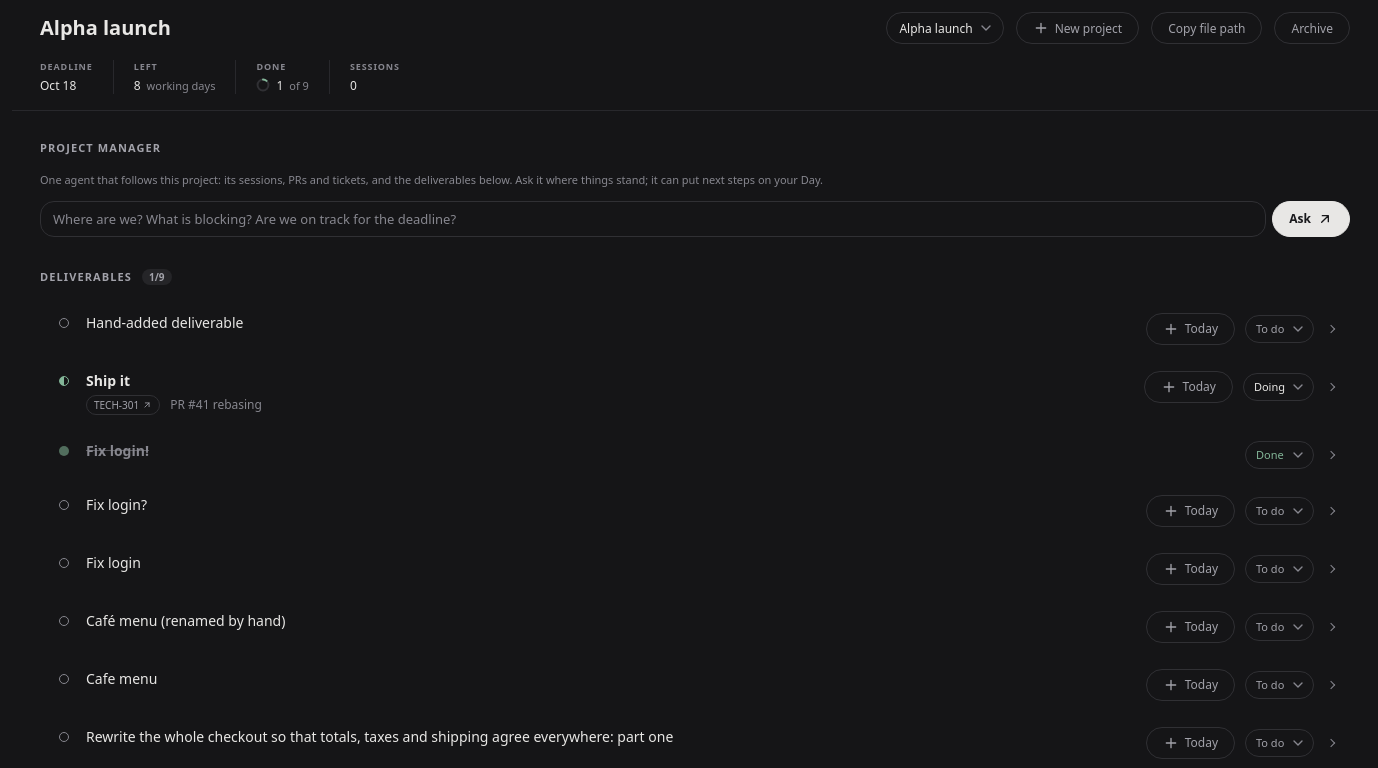
Projects pane › creates from a title and a note, selects the new project and reports a manager that did not start
Expected: the heading "Alpha launch" is shown, [40,14,171,41]
Click the button "New project" at x=1077, y=28, box [1016,12,1139,44]
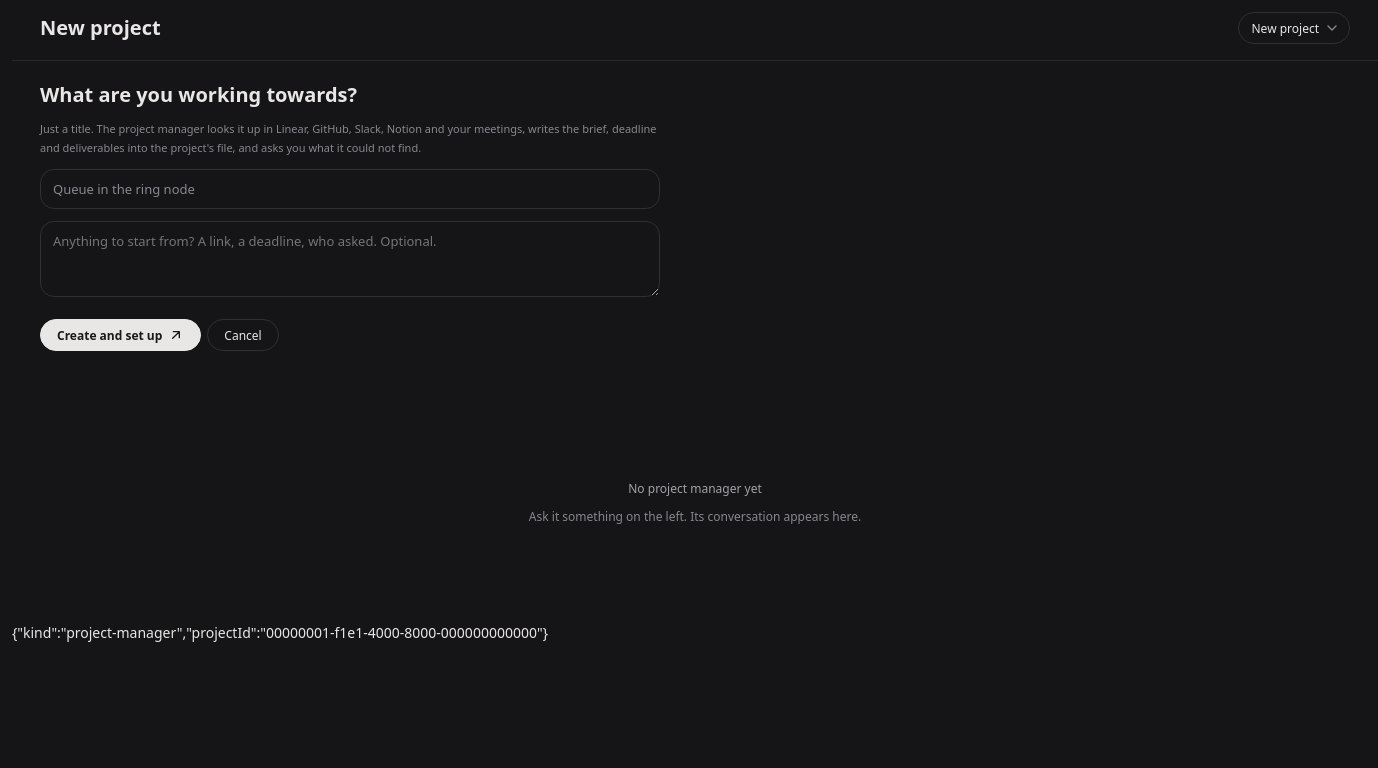
Now the heading "New project" is shown, box [40,14,161,41]
An empty title is refused before any request.
Submit the form, box [40,81,660,351]
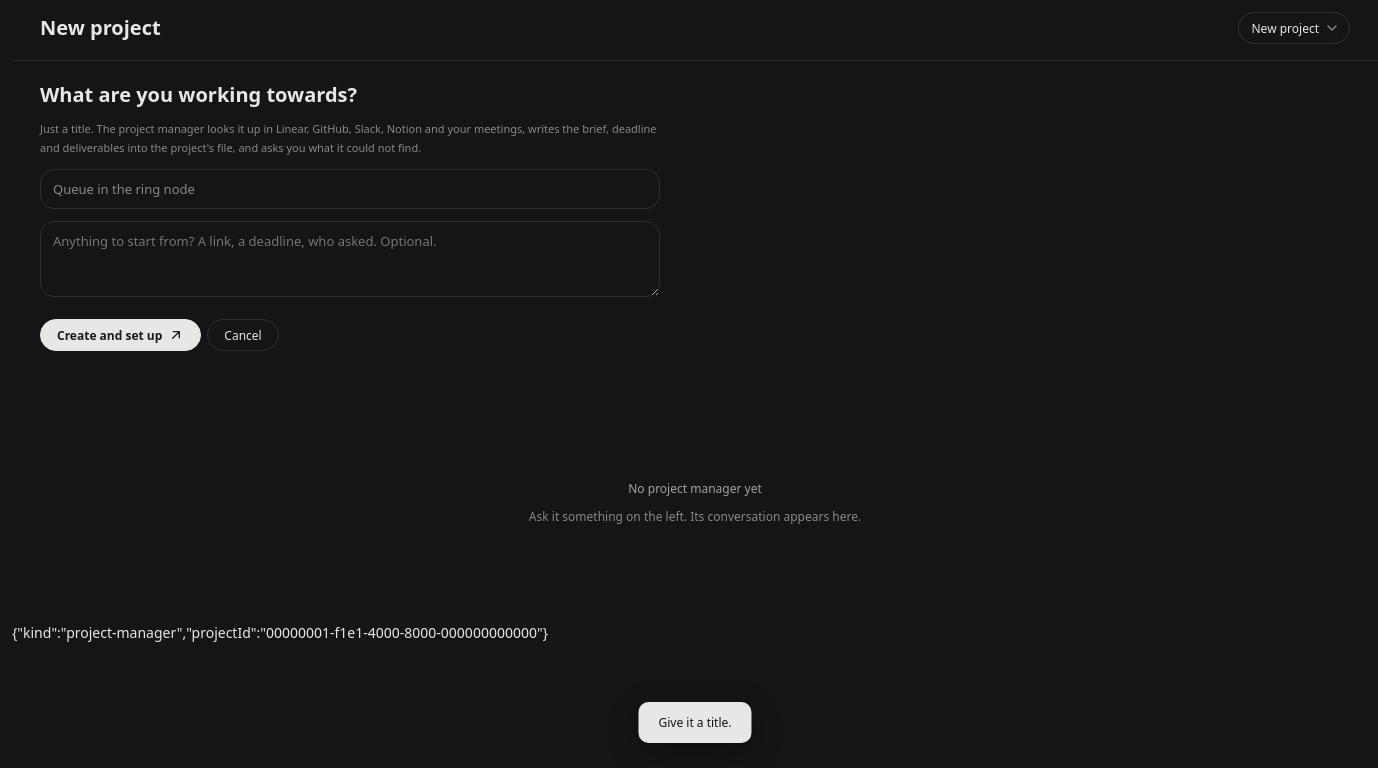
Now the message with id "toast" reads "Give it a title.", box [658,714,732,731]
Type "Created while busy" into the field named "Project title" at x=350, y=189, box [40,169,660,209]
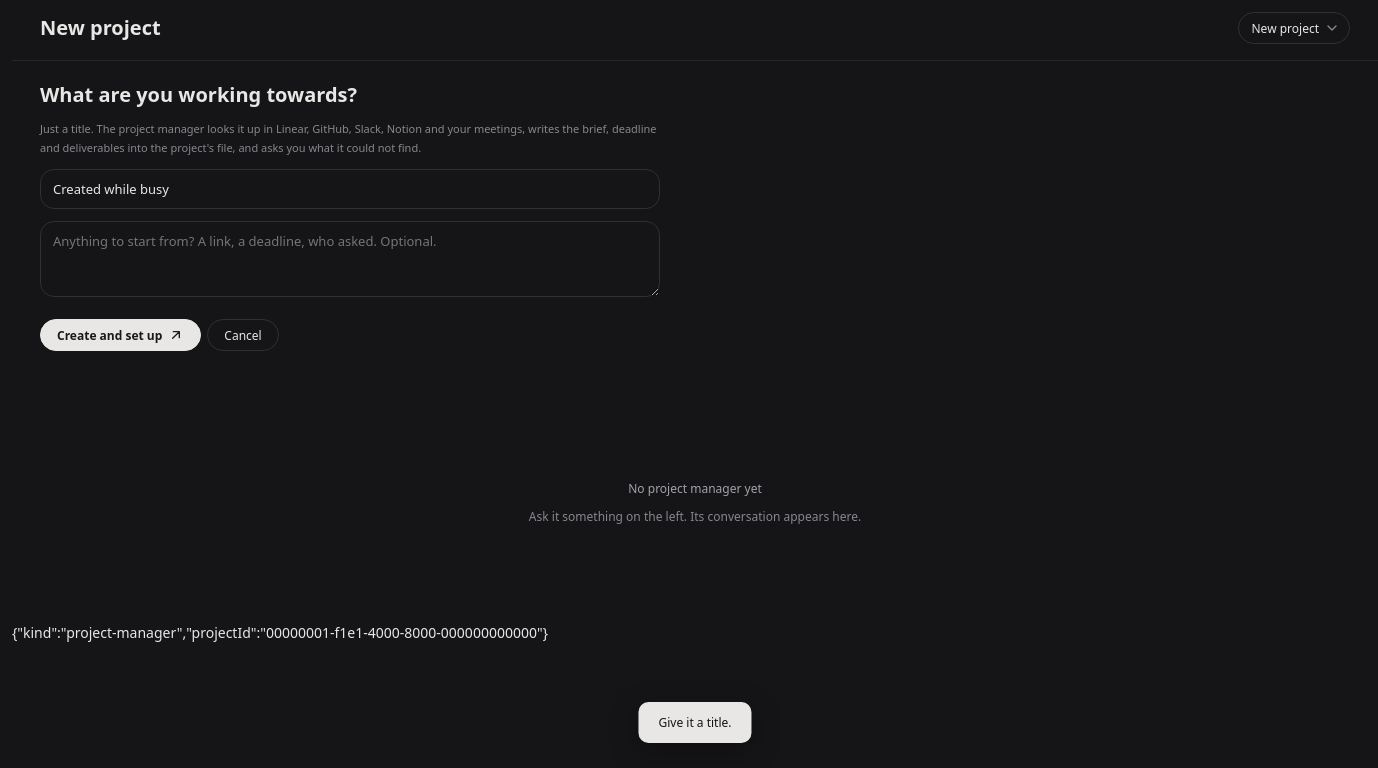
Replace the text in the text box named "Note" with "Asked by Franco" at x=350, y=259, box [40,221,660,297]
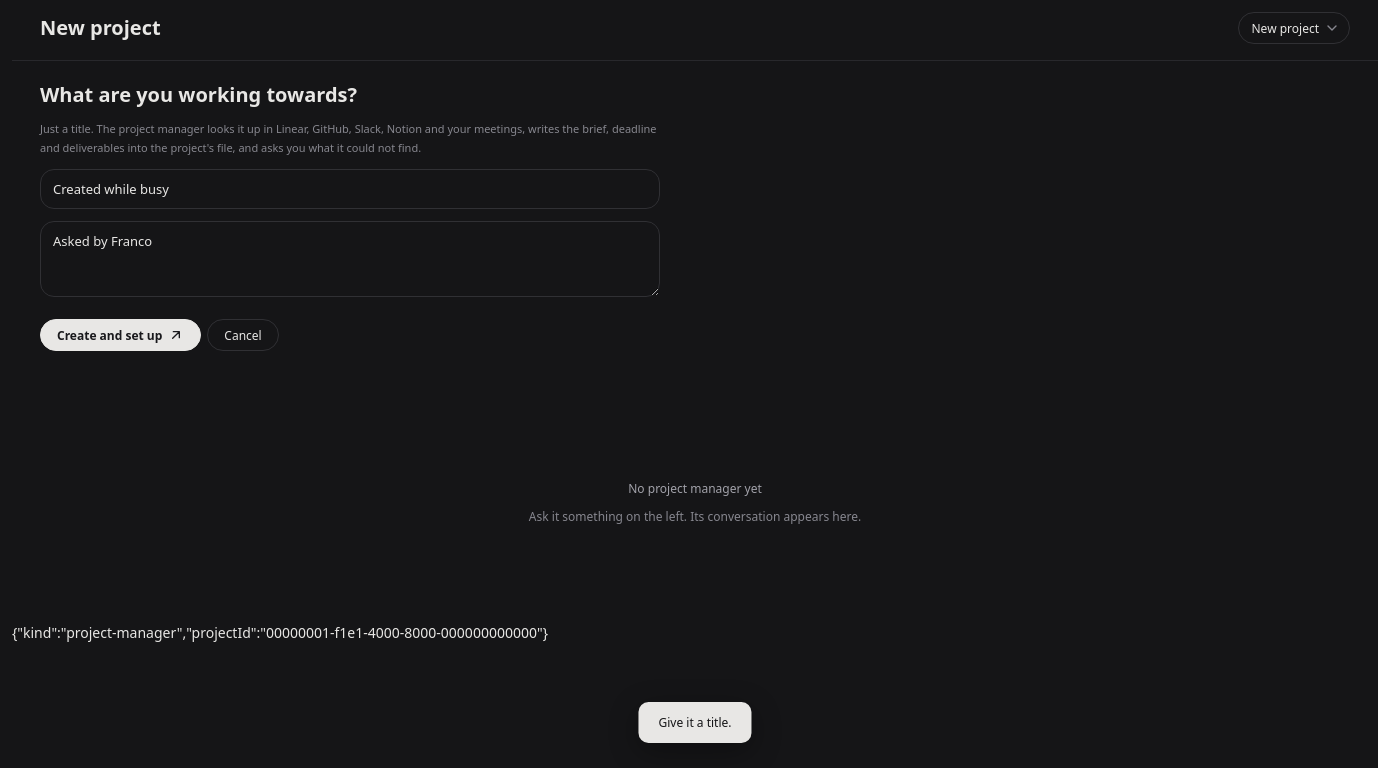
Submit the form, box [40,81,660,351]
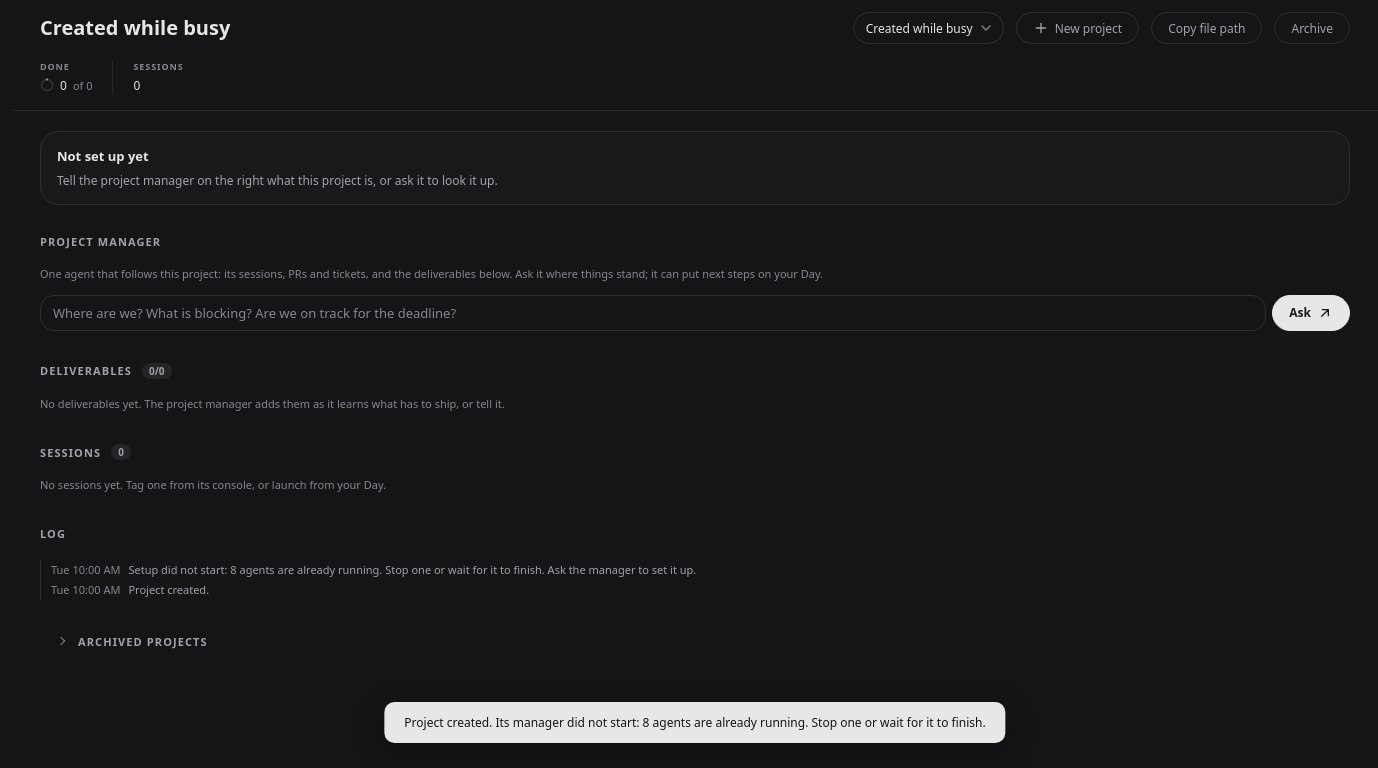
Now the heading "Created while busy" is shown, box [40,14,230,41]
